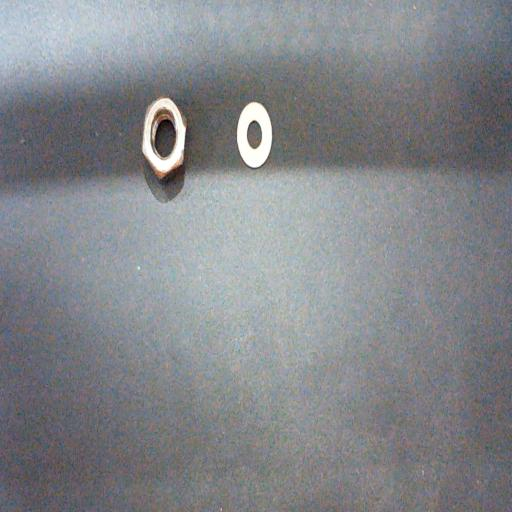nut: (142, 95, 187, 181)
washer: (237, 102, 272, 167)
